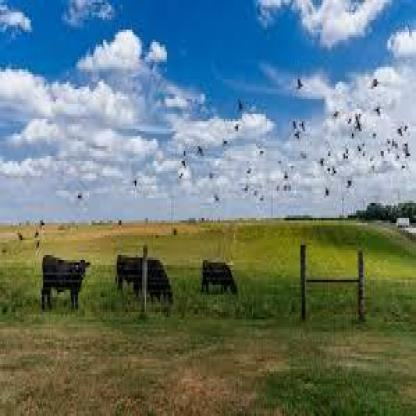cow: (40, 254, 92, 311), (132, 255, 174, 307), (201, 258, 239, 297), (114, 252, 143, 295)
